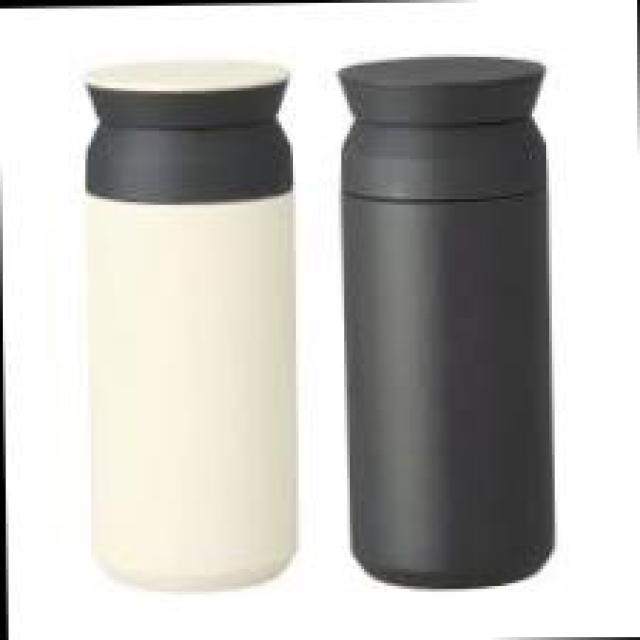bottle: (70, 51, 303, 600)
